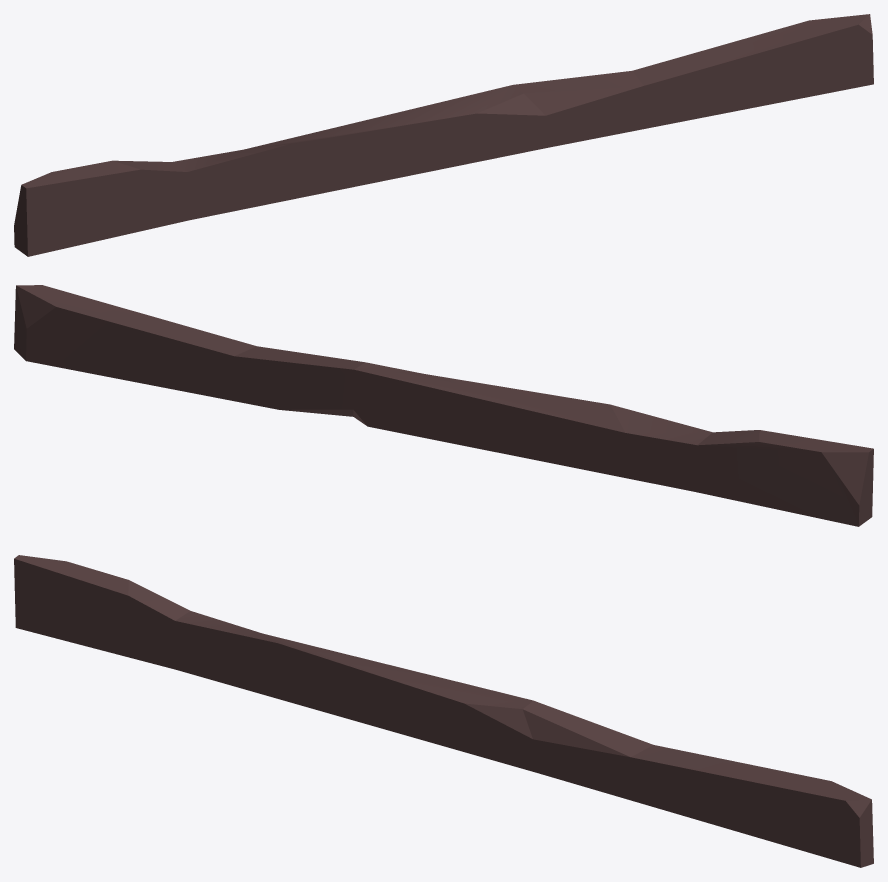
The model's file is prop_56.FBX.
3 views of the same model, one above another, from view 1: azimuth 30°, elevation 25°; view 2: azimuth 150°, elevation 25°; view 3: azimuth 330°, elevation 25° (orthographic).
Parts seen in each view (by area): view 1: prop_56; view 2: prop_56; view 3: prop_56.
Boxes of the visible parts, x1=… form: prop_56: x1=14, y1=14, x2=873, y2=256; prop_56: x1=14, y1=285, x2=873, y2=526; prop_56: x1=14, y1=555, x2=873, y2=867.
Bounding box in the file's own units: 74.6 × 8.6 × 2.71.
